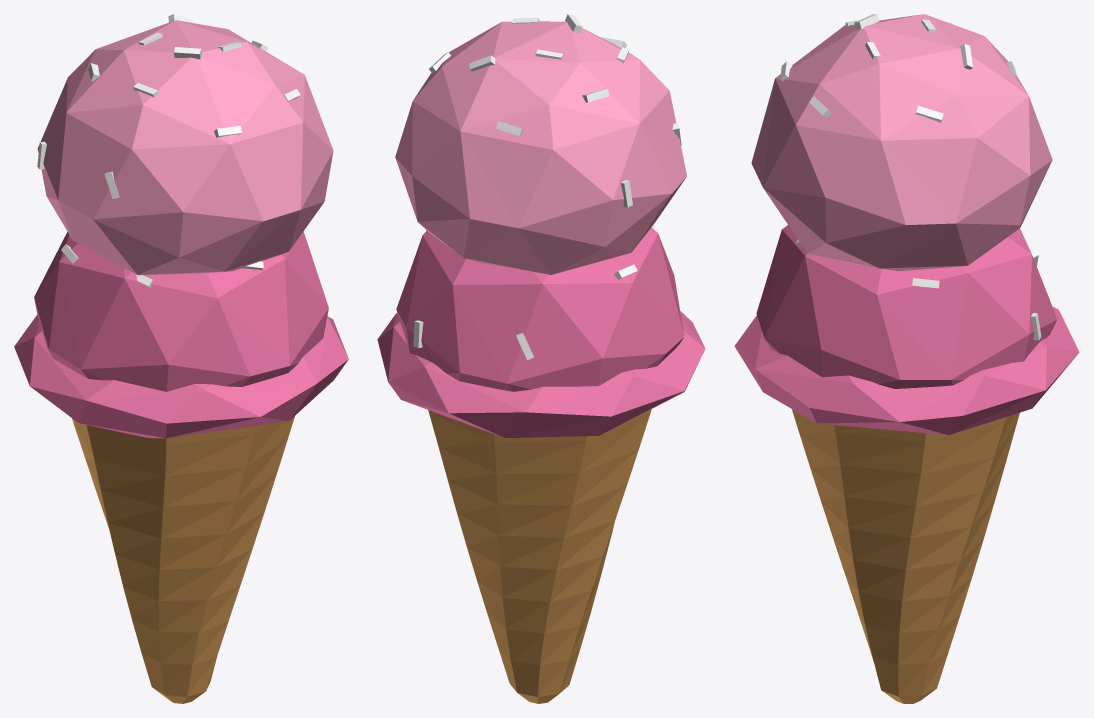
Rendered from IceCream_2.obj.
The picture shows the model from 3 angles, left to right: view 1: azimuth 30°, elevation 25°; view 2: azimuth 150°, elevation 25°; view 3: azimuth 270°, elevation 25°; orthographic projection.
Visible parts, largest first — view 1: IceCream_2_PalePink, IceCream_2_PalePink2, IceCream_2_LightYellow, IceCream_2_White; view 2: IceCream_2_PalePink, IceCream_2_PalePink2, IceCream_2_LightYellow, IceCream_2_White; view 3: IceCream_2_PalePink, IceCream_2_PalePink2, IceCream_2_LightYellow, IceCream_2_White.
Boxes of the visible parts, bbox=[...] form: IceCream_2_PalePink: bbox=[37, 20, 333, 275]; IceCream_2_PalePink2: bbox=[14, 231, 348, 438]; IceCream_2_LightYellow: bbox=[72, 416, 294, 703]; IceCream_2_White: bbox=[37, 14, 300, 287]; IceCream_2_PalePink: bbox=[395, 21, 686, 275]; IceCream_2_PalePink2: bbox=[377, 228, 705, 437]; IceCream_2_LightYellow: bbox=[428, 409, 651, 703]; IceCream_2_White: bbox=[413, 14, 681, 360]; IceCream_2_PalePink: bbox=[751, 14, 1052, 271]; IceCream_2_PalePink2: bbox=[734, 225, 1079, 435]; IceCream_2_LightYellow: bbox=[792, 409, 1019, 703]; IceCream_2_White: bbox=[780, 14, 1041, 340].
Bounding box in the file's own units: 0.7296 × 1.57 × 0.7296.
